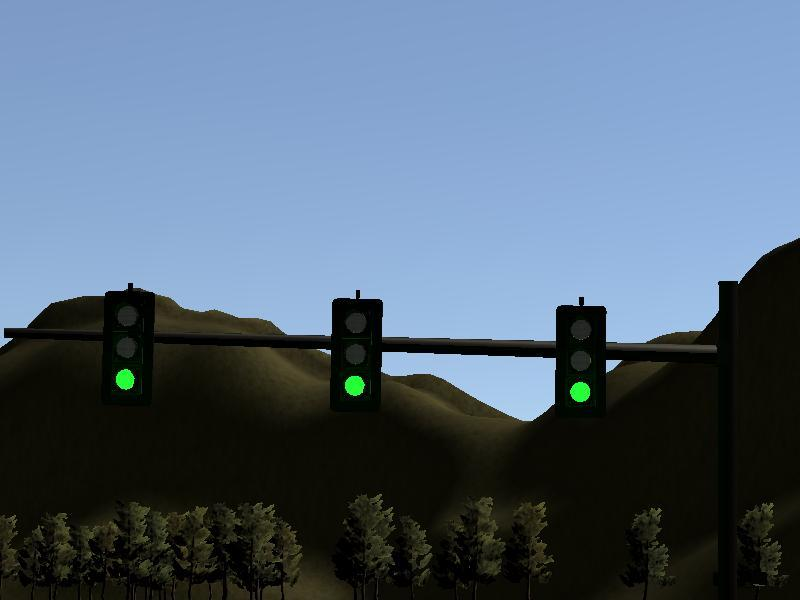Green: (101, 291, 154, 410), (331, 298, 381, 414), (555, 304, 605, 420)
